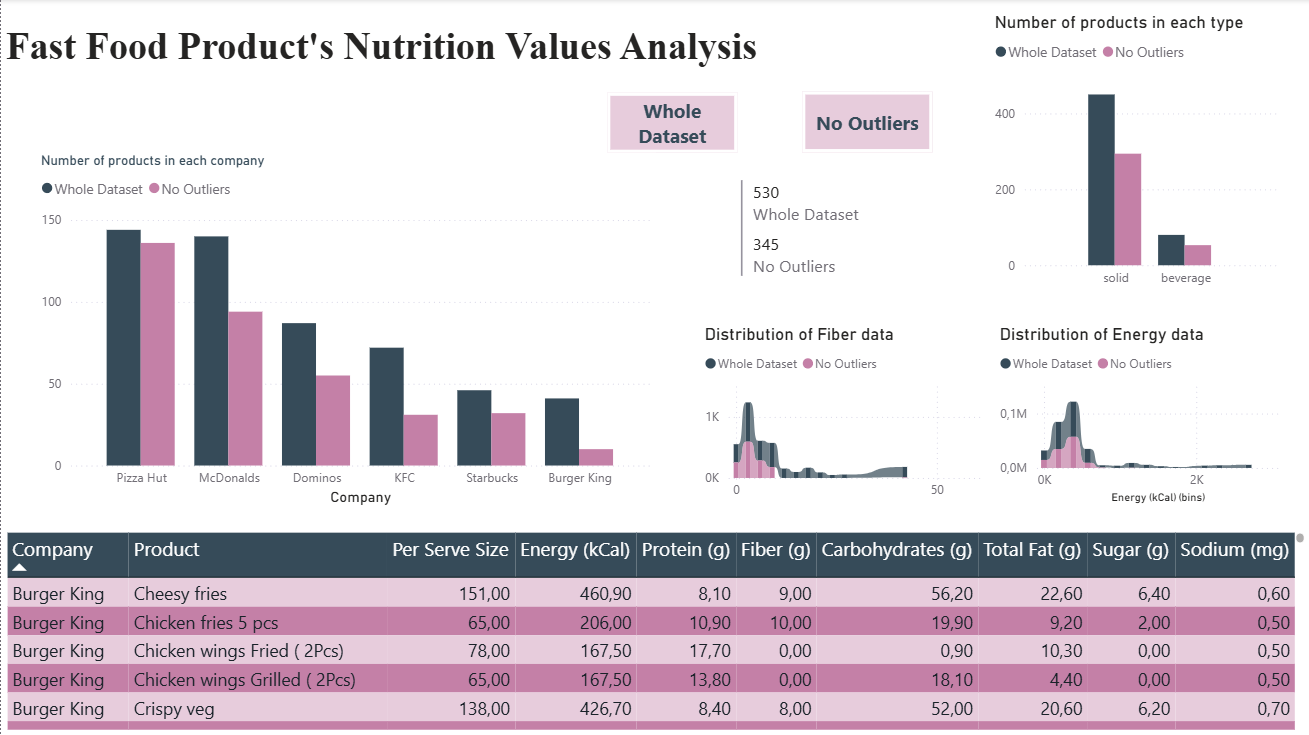

The page's visual inventory and layout, read from the dashboard file:
{"tool":"powerbi","page":{"name":"Overview","canvas":[1280,720],"ordinal":0},"visuals":[{"type":"textbox","box":[0,19.9,763,71.5],"z":0},{"type":"tableEx","fields":{"Values":["nutrition_value_no_outliers.Company","nutrition_value_no_outliers.Product","nutrition_value_no_outliers.Per Serve Size","nutrition_value_no_outliers.Energy (kCal)","nutrition_value_no_outliers.Protein (g)","nutrition_value_no_outliers.Fiber (g)","nutrition_value_no_outliers.Carbohydrates (g)","nutrition_value_no_outliers.Total Fat (g)","nutrition_value_no_outliers.Sugar (g)","nutrition_value_no_outliers.Sodium (mg)"]},"box":[0,517.3,1280.3,203],"z":1000},{"type":"actionButton","title":"Button All Data","box":[593.1,91.7,127.2,58.7],"z":7000},{"type":"actionButton","title":"Button Compare","box":[783.8,91.7,127.2,58.7],"z":8000},{"type":"clusteredColumnChart","title":"Number of products in each company","fields":{"Category":["nutrition_value.Company"],"Y":["CountNonNull(nutrition_value.Company)","CountNonNull(nutrition_value_no_outliers.Company)"]},"box":[33.8,151,606,349.7],"z":16000},{"type":"clusteredColumnChart","title":"Number of products in each type","fields":{"Y":["CountNonNull(nutrition_value.type)","CountNonNull(nutrition_value_no_outliers.type)"],"Category":["nutrition_value.type"]},"box":[967.7,11.9,286.1,278.2],"z":17000},{"type":"ribbonChart","title":"Distribution of Energy data","fields":{"Y":["Sum(nutrition_value.Energy (kCal))","Sum(nutrition_value_no_outliers.Energy (kCal))"],"Category":["nutrition_value.Energy (kCal) (bins)"]},"box":[971.6,317.9,284.1,180.8],"z":18000},{"type":"ribbonChart","title":"Distribution of Fiber data","fields":{"Y":["Sum(nutrition_value.Fiber (g))","Sum(nutrition_value_no_outliers.Fiber (g))"],"Category":["nutrition_value.Fiber (g) (bins)"]},"box":[683.5,317.9,284.1,180.8],"z":19000},{"type":"multiRowCard","fields":{"Values":["nutrition_value.Product","nutrition_value_no_outliers.Product"]},"box":[719.3,172.9,147,117.2],"z":20000},{"type":"actionButton","title":"Button Outliers","box":[783.7,91.1,127.2,59.3],"z":21000}]}

Visuals, with their boxes in screenshot pixels (x1, y1, x2, y2), scaled from the page's 1280x720 canvas onto the 1309x735 screenshot:
textbox: box(0, 20, 780, 93)
tableEx - nutrition_value_no_outliers.Company x nutrition_value_no_outliers.Product: box(0, 528, 1308, 734)
"Button All Data" actionButton: box(607, 94, 737, 154)
"Button Compare" actionButton: box(802, 94, 932, 154)
"Number of products in each company" clusteredColumnChart: box(35, 154, 654, 511)
"Number of products in each type" clusteredColumnChart: box(990, 12, 1282, 296)
"Distribution of Energy data" ribbonChart: box(994, 325, 1284, 509)
"Distribution of Fiber data" ribbonChart: box(699, 325, 990, 509)
multiRowCard - nutrition_value.Product x nutrition_value_no_outliers.Product: box(736, 177, 886, 296)
"Button Outliers" actionButton: box(801, 93, 932, 154)
